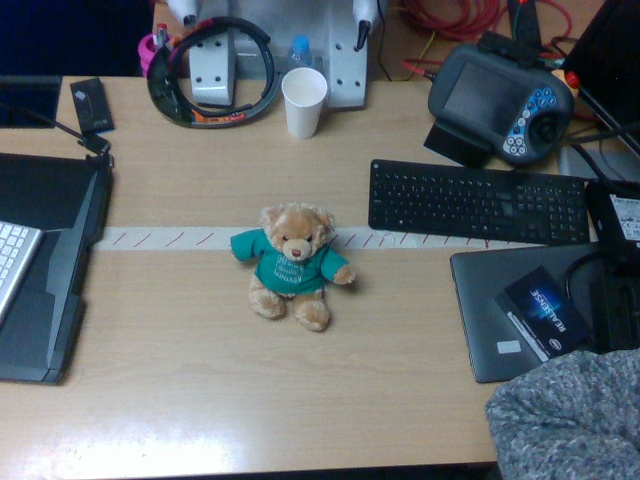teddy: (231, 202, 356, 332)
